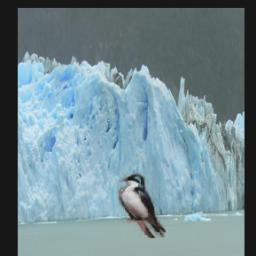Swallow: (118, 173, 166, 238)
